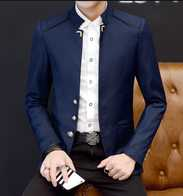F_M_suit jacket: (29, 9, 169, 164)
F_belt: (72, 129, 104, 144)
